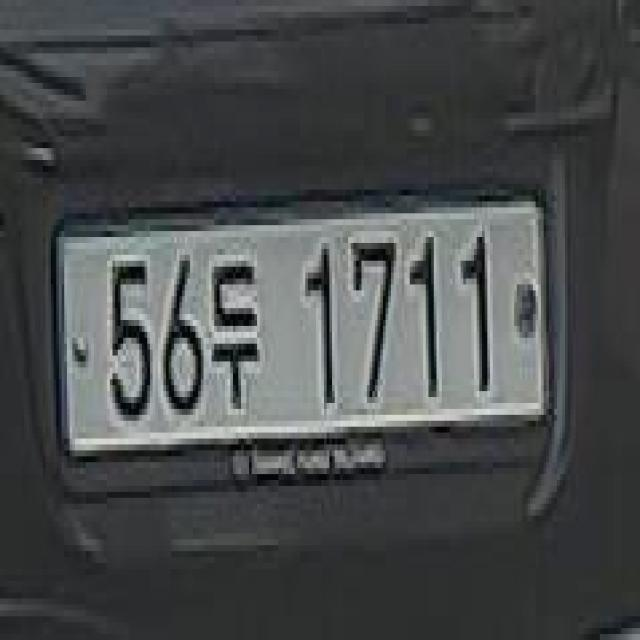illegal_plate: (54, 184, 556, 501)
